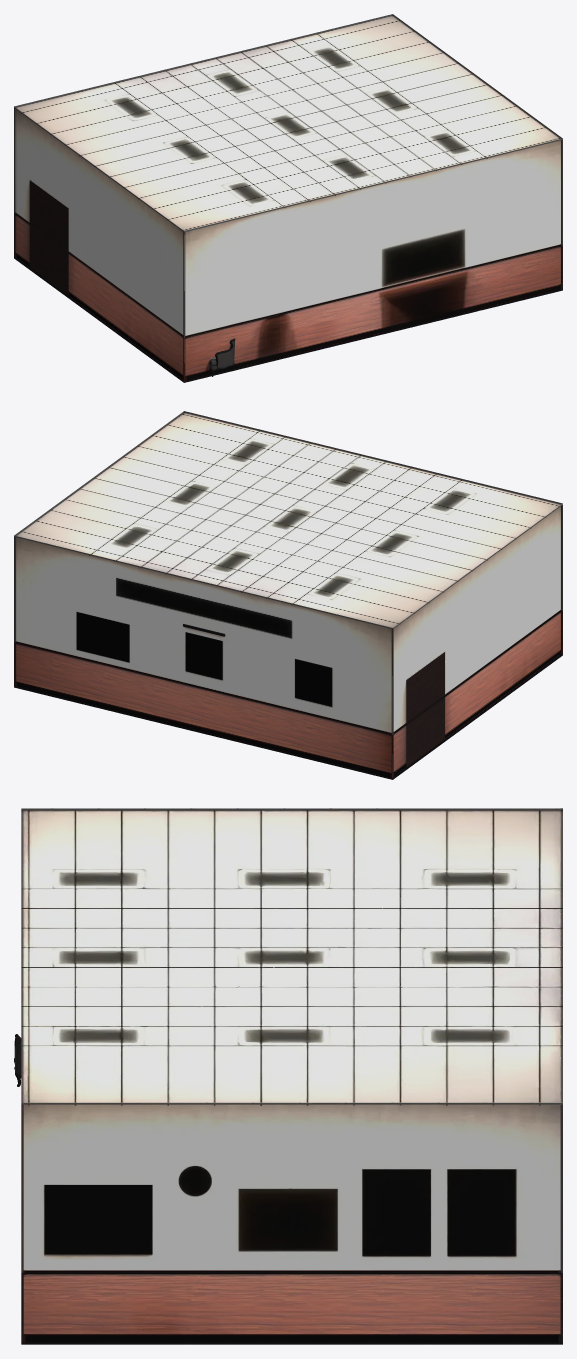
Rendered from club.glb.
3 views of the same model, one above another, from view 1: azimuth 30°, elevation 25°; view 2: azimuth 150°, elevation 25°; view 3: azimuth 270°, elevation 25° (orthographic). The views are drawn at different scales.
Visible parts, largest first — view 1: bake_ceil, bake_wallB, bake_wallL, bake_props, bake_floor, bake_furn; view 2: bake_ceil, bake_wallF, bake_wallL, bake_board, bake_props, bake_floor; view 3: bake_ceil, bake_wallR, bake_floor, bake_wallB, bake_wallF.
Boxes of the visible parts, box(x1,y1,x2,y2) form: bake_ceil: box(14, 14, 562, 232); bake_wallB: box(182, 140, 560, 381); bake_wallL: box(15, 109, 186, 381); bake_props: box(29, 180, 68, 295); bake_floor: box(14, 258, 562, 382); bake_furn: box(209, 338, 235, 376); bake_ceil: box(14, 411, 562, 629); bake_wallF: box(16, 537, 394, 778); bake_wallL: box(390, 506, 561, 778); bake_board: box(76, 612, 331, 706); bake_props: box(406, 652, 444, 767); bake_floor: box(14, 655, 562, 779); bake_ceil: box(21, 808, 562, 1105); bake_wallR: box(23, 1104, 560, 1343); bake_floor: box(21, 1343, 562, 1344); bake_wallB: box(21, 1104, 25, 1343); bake_wallF: box(558, 1104, 562, 1343).
Bounding box in the file's own units: 9 × 3.45 × 7.09.
9 materials, 9 textured.
